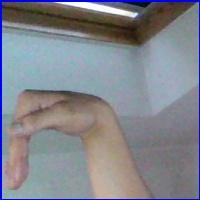del: (4, 87, 111, 189)
